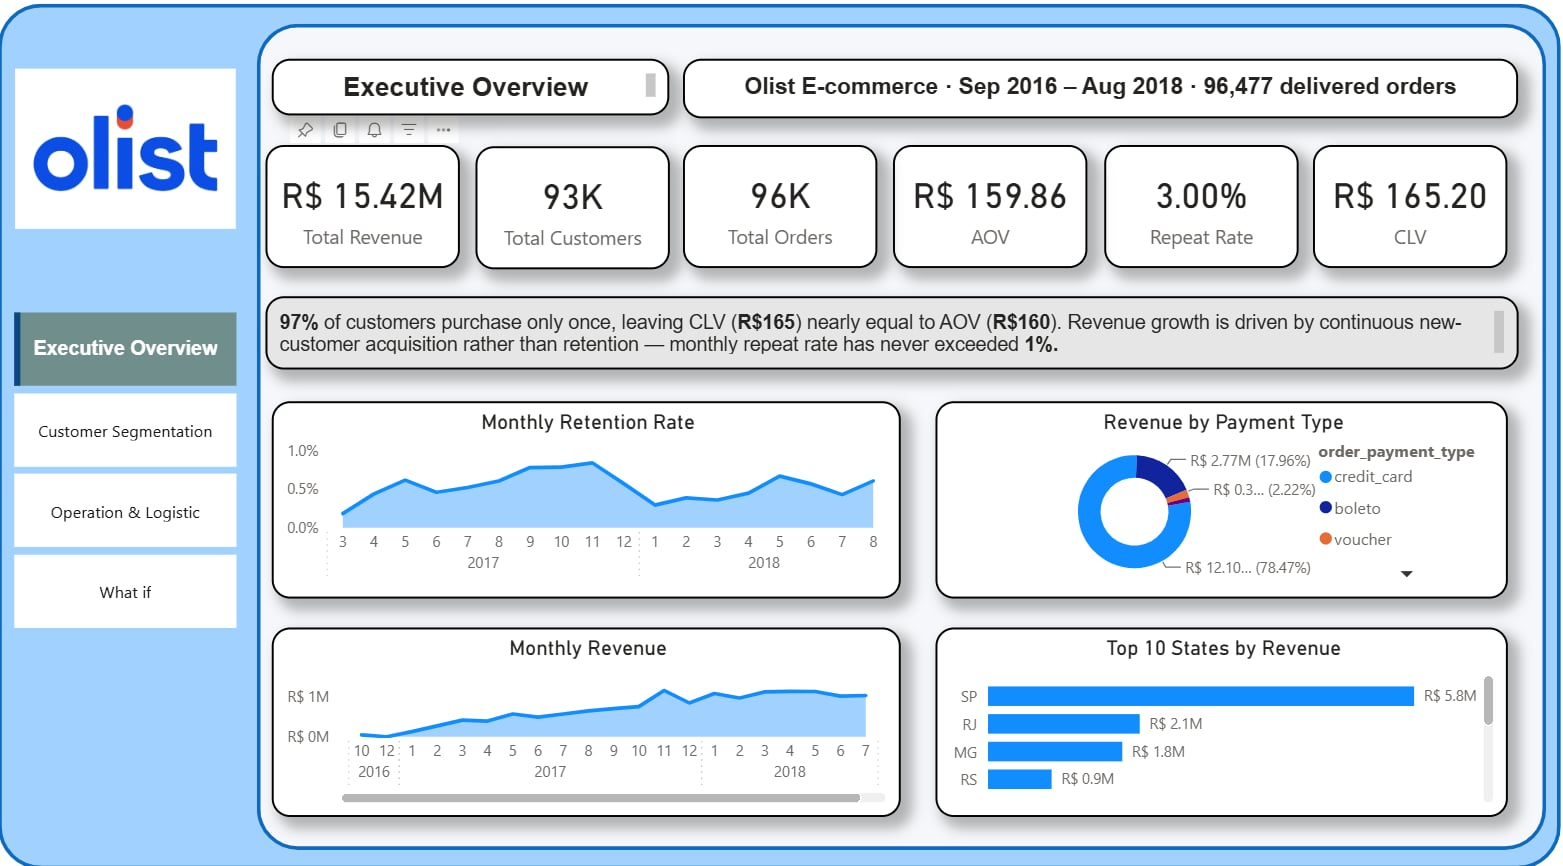

This screenshot's page, from the dashboard's own definition file:
{"tool":"powerbi","page":{"name":"Executive Overview","canvas":[1280,720],"ordinal":0},"visuals":[{"type":"shape","box":[0,11.2,1280,709.1],"z":0},{"type":"shape","box":[211.5,27.4,1056.1,676.7],"z":1000},{"type":"card","fields":{"Values":["_Measures (2).Total Revenue"]},"box":[218.9,126.9,159.2,100.8],"z":2000},{"type":"card","fields":{"Values":["_Measures (2).Repeat Value"]},"box":[905.6,126.9,159.2,100.8],"z":3000},{"type":"card","fields":{"Values":["_Measures (2).AOV"]},"box":[732.7,126.9,159.2,100.8],"z":4000},{"type":"card","fields":{"Values":["_Measures (2).Total Customers"]},"box":[390.6,128.1,159.2,100.8],"z":5000},{"type":"card","fields":{"Values":["_Measures (2).Total Orders"]},"box":[561,126.9,159.2,100.8],"z":6000},{"type":"card","fields":{"Values":["_Measures (2).CLV"]},"box":[1077.3,126.9,159.2,100.8],"z":7000},{"type":"lineChart","title":"Monthly Retention Rate","fields":{"Y":["_Measures (2).Retention Rate"],"Category":["dim_date.date_year","dim_date.date_month"]},"box":[223.9,337.1,515,161.7],"z":8000},{"type":"lineChart","title":"Monthly Revenue","fields":{"Y":["_Measures (2).Total Revenue"],"Category":["dim_date.date_year","dim_date.date_month"]},"box":[223.9,522.5,515,155.5],"z":9000},{"type":"clusteredBarChart","title":"Top 10 States by Revenue","fields":{"Category":["dim_customers.customer_state"],"Y":["_Measures (2).Total Revenue"]},"box":[767.5,522.5,469,155.5],"z":10000},{"type":"textbox","box":[223.9,56,325.9,46],"z":11000},{"type":"textbox","box":[218.9,251.3,1026.3,59.7],"z":12000},{"type":"donutChart","title":"Revenue by Payment Type","fields":{"Category":["fact_orders.order_payment_type"],"Y":["_Measures (2).Total Revenue"]},"box":[767.5,337.1,469,161.7],"z":13000},{"type":"pageNavigator","box":[13.7,263.7,182.9,258.7],"z":14000},{"type":"textbox","box":[561,56,684.2,48.5],"z":15000},{"type":"image","box":[8.7,27.4,190.3,205.3],"z":16000}]}

Visuals, with their boxes in screenshot pixels (x1, y1, x2, y2), scaled from the page's 1280x720 canvas onto the 1563x866 screenshot:
shape: [x1=0, y1=13, x2=1562, y2=865]
shape: [x1=258, y1=33, x2=1548, y2=847]
card - _Measures (2).Total Revenue: [x1=267, y1=153, x2=462, y2=274]
card - _Measures (2).Repeat Value: [x1=1106, y1=153, x2=1300, y2=274]
card - _Measures (2).AOV: [x1=895, y1=153, x2=1089, y2=274]
card - _Measures (2).Total Customers: [x1=477, y1=154, x2=671, y2=275]
card - _Measures (2).Total Orders: [x1=685, y1=153, x2=879, y2=274]
card - _Measures (2).CLV: [x1=1315, y1=153, x2=1510, y2=274]
"Monthly Retention Rate" lineChart: [x1=273, y1=405, x2=902, y2=600]
"Monthly Revenue" lineChart: [x1=273, y1=628, x2=902, y2=815]
"Top 10 States by Revenue" clusteredBarChart: [x1=937, y1=628, x2=1510, y2=815]
textbox: [x1=273, y1=67, x2=671, y2=123]
textbox: [x1=267, y1=302, x2=1521, y2=374]
"Revenue by Payment Type" donutChart: [x1=937, y1=405, x2=1510, y2=600]
pageNavigator: [x1=17, y1=317, x2=240, y2=628]
textbox: [x1=685, y1=67, x2=1521, y2=126]
image: [x1=11, y1=33, x2=243, y2=280]
